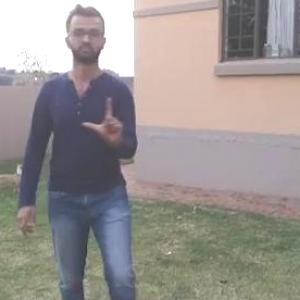land_hand: (78, 89, 128, 148)
